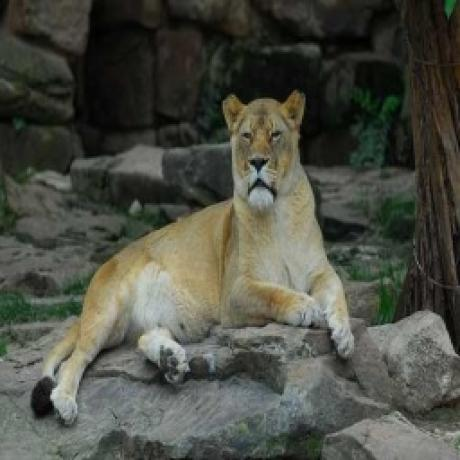Lion: (29, 88, 357, 428)
